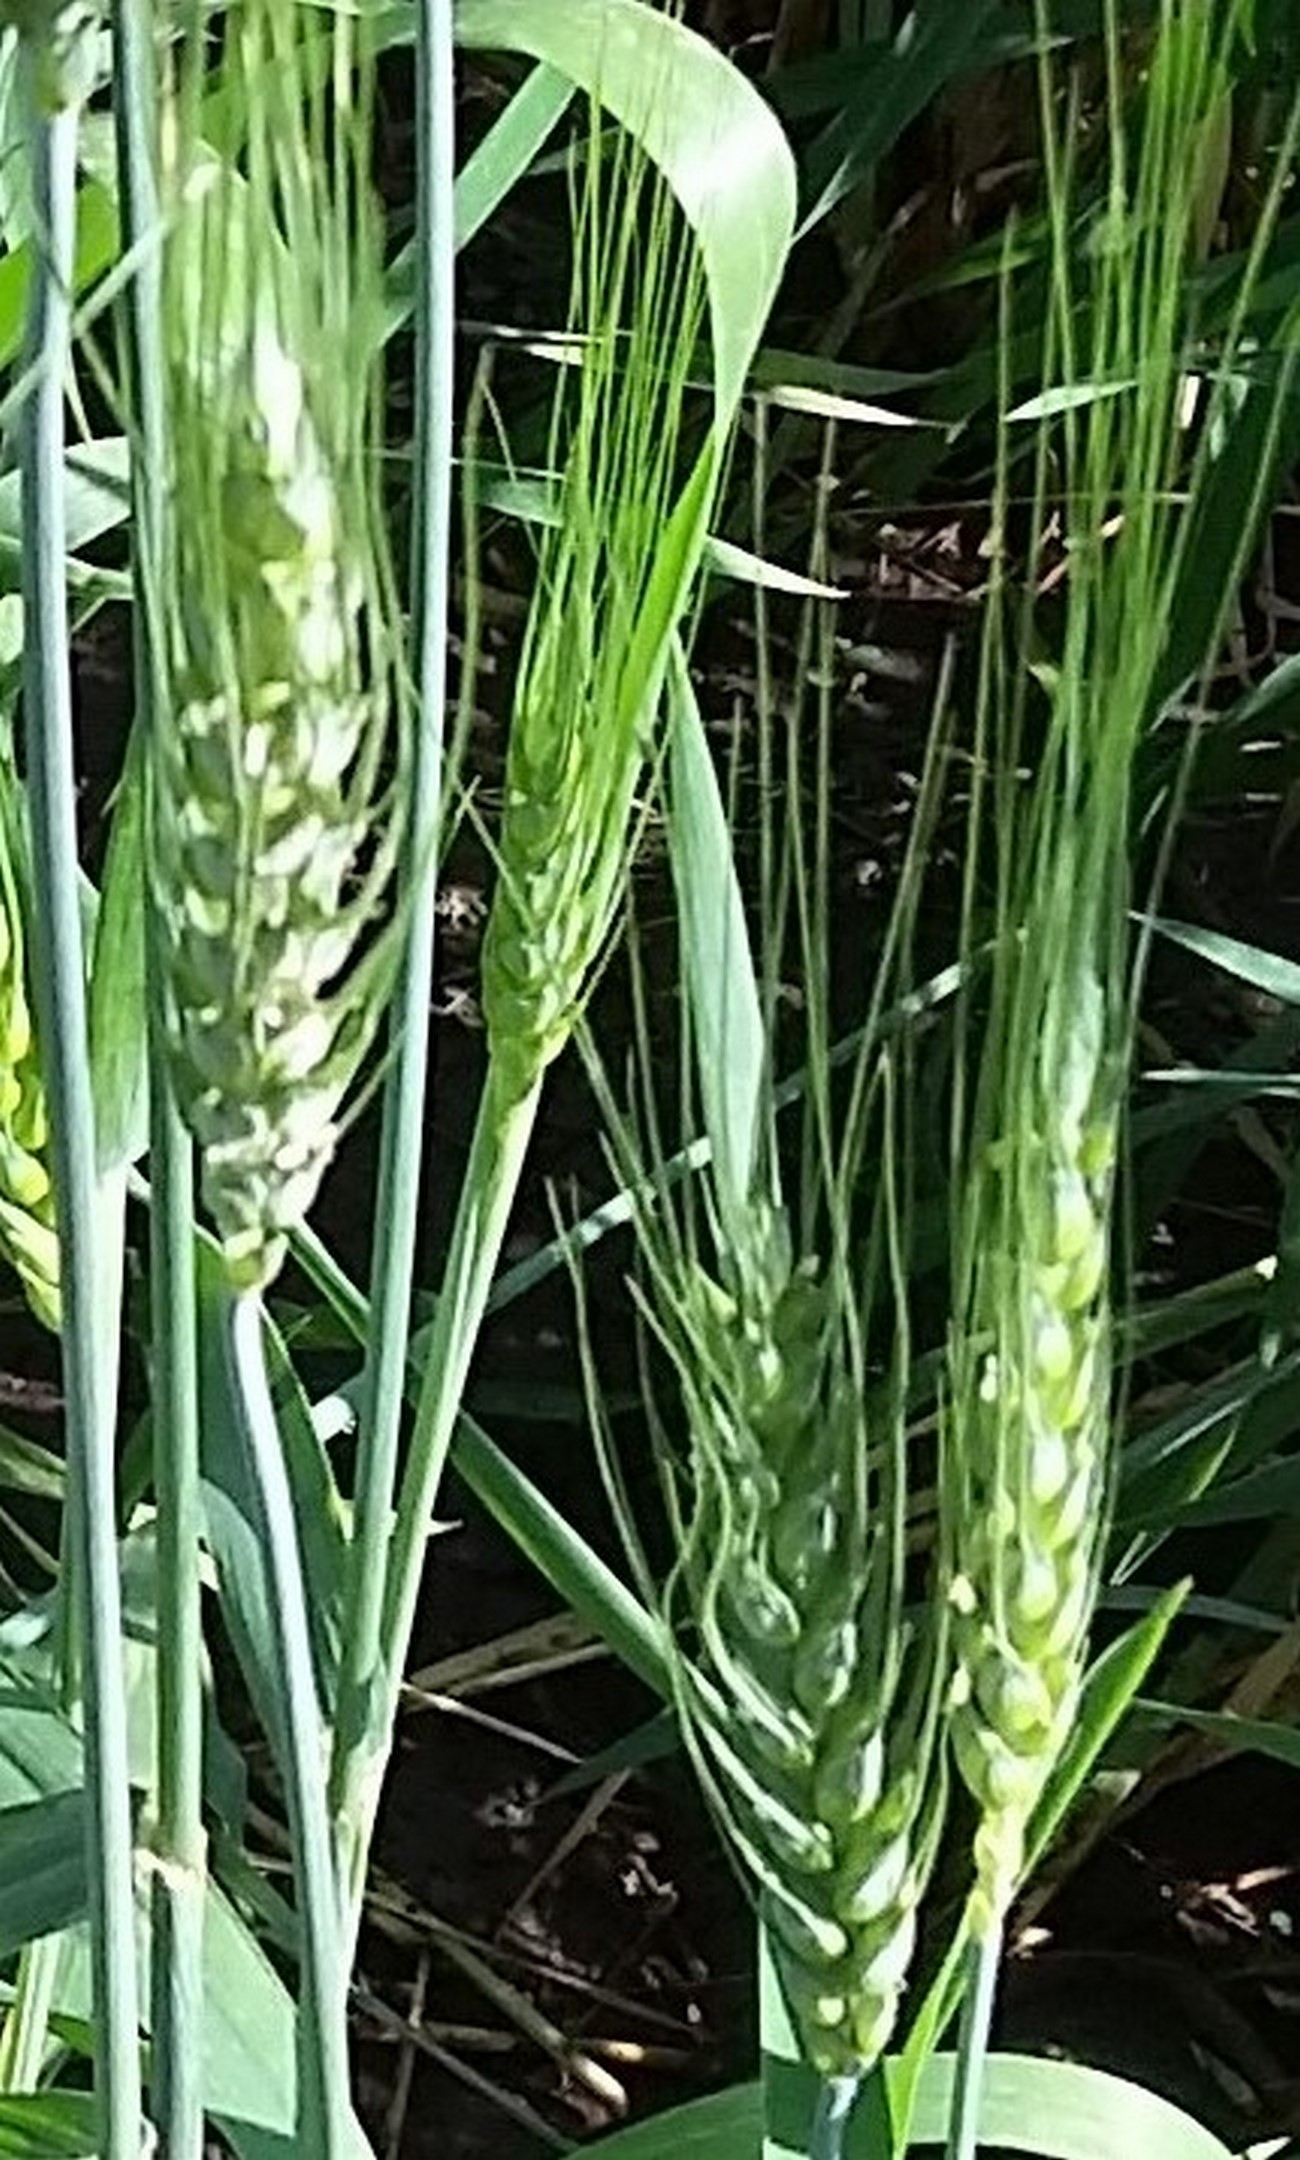Healthy Wheat: (591, 1038, 1109, 2080)
